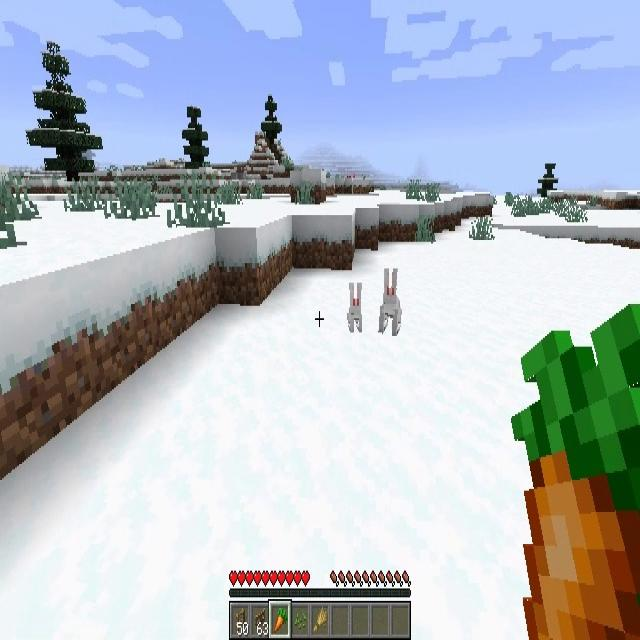rabbit: (379, 268, 402, 333), (348, 281, 362, 331)
